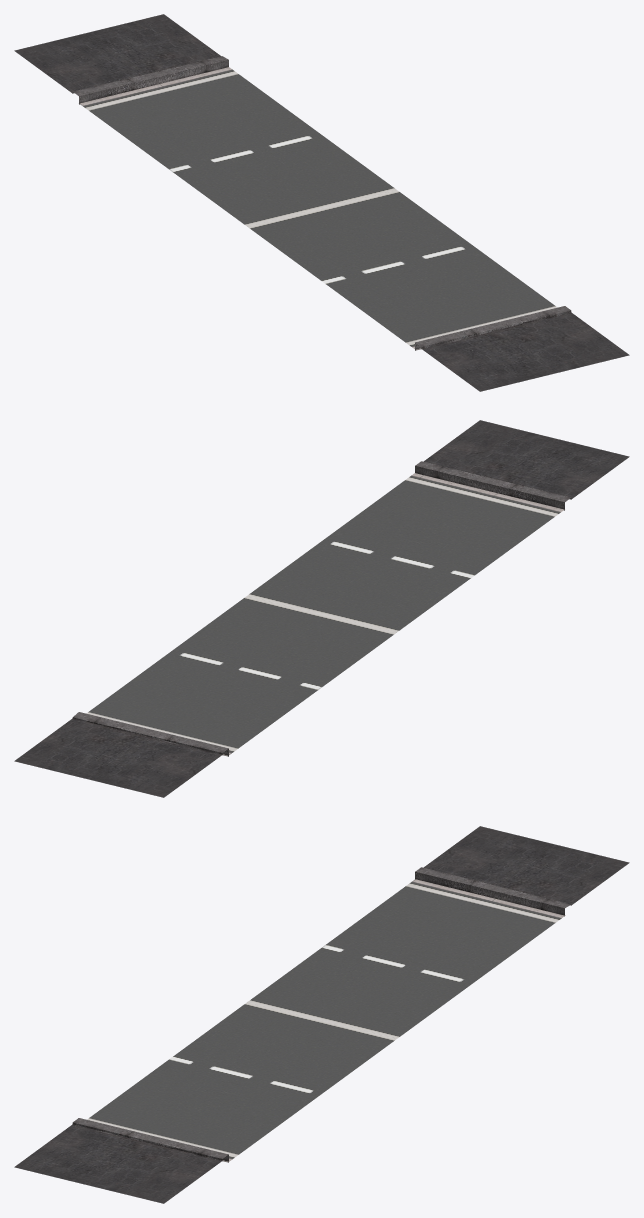
File: 4 lines half_mobile.FBX
The picture shows the model from 3 angles, top to bottom: view 1: azimuth 30°, elevation 25°; view 2: azimuth 150°, elevation 25°; view 3: azimuth 330°, elevation 25°; orthographic projection.
Parts seen in each view (by area): view 1: Object194; view 2: Object194; view 3: Object194.
Boxes of the visible parts, x1,y1,x2,y2 form: Object194: (14, 14, 629, 391); Object194: (14, 420, 629, 797); Object194: (14, 826, 629, 1203).
Bounding box in the file's own units: 6.01 × 0.3184 × 32.31.
